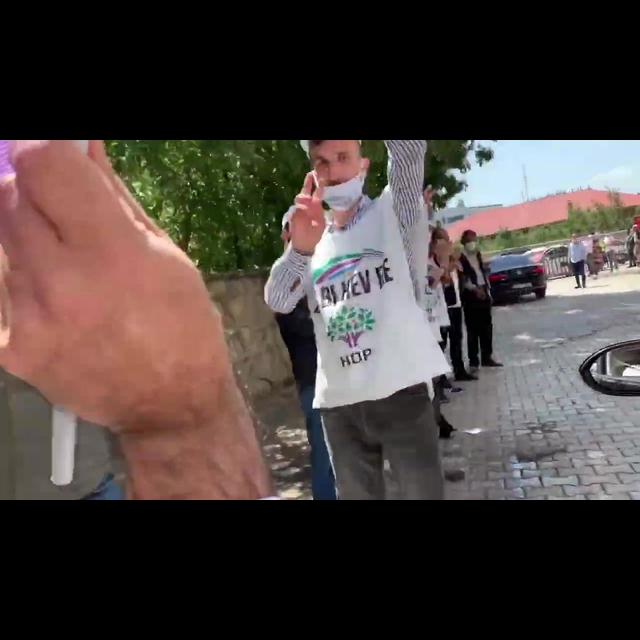HDP: (324, 304, 377, 350)
